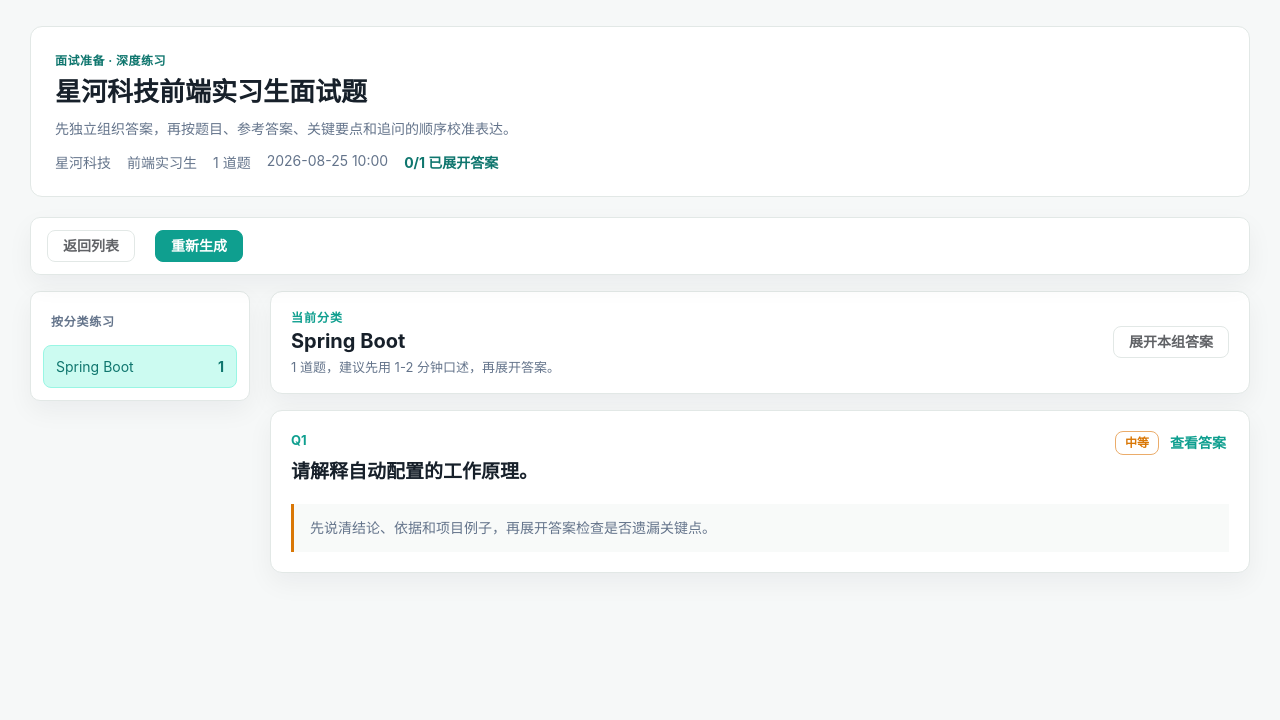
Test case: interview question reading redesign › keeps long answers readable, wraps many keywords and gives actionable no-follow-up guidance
Click the button "查看答案" at point(1198, 443), box left=1167, top=433, right=1229, bottom=453
(page scrolled)
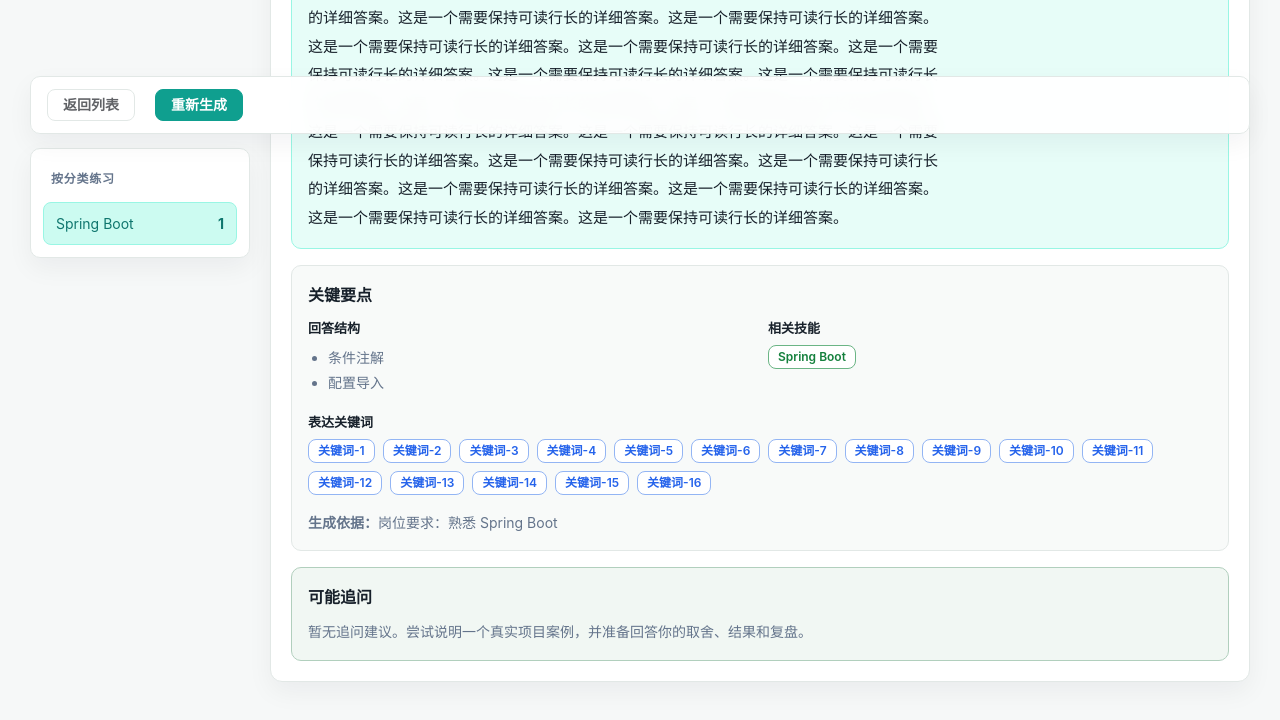
Expected: the element showing "可能追问 暂无追问建议。尝试说明一个真实项目案例，并准备回答你的取舍、结果和复盘。" is shown, left=291, top=567, right=1229, bottom=661
